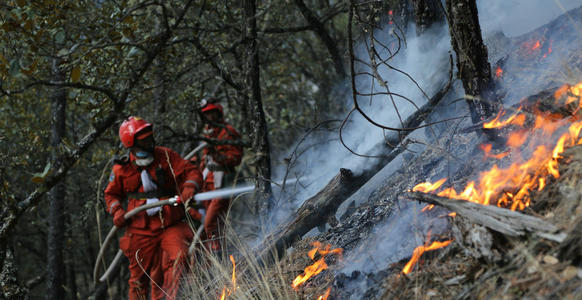fire: (483, 100, 576, 205), (417, 177, 483, 205), (296, 245, 334, 283)
smoke: (351, 41, 411, 267), (479, 1, 579, 89), (412, 36, 467, 173), (287, 141, 350, 217)
